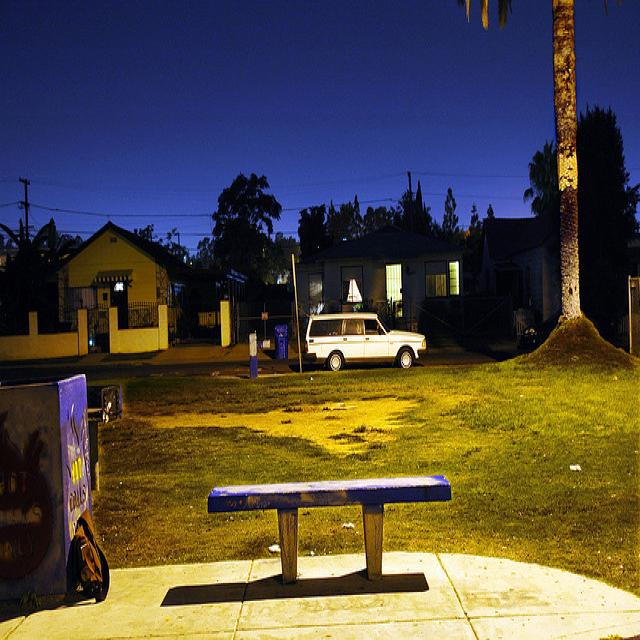Vehicle: (306, 313, 427, 371)
